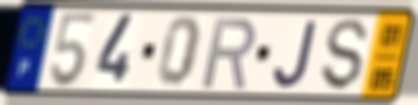0: (156, 13, 204, 91)
4: (94, 10, 136, 92)
5: (47, 10, 100, 91)
J: (272, 18, 320, 91)
R: (199, 15, 259, 91)
S: (320, 17, 371, 94)
